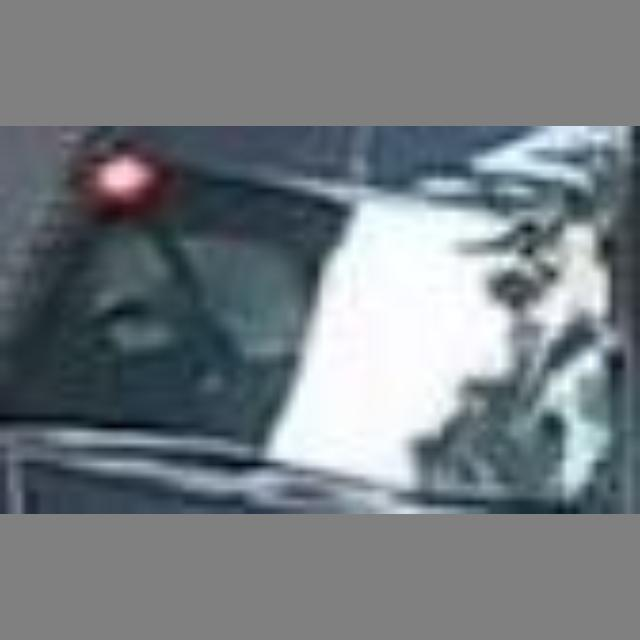pakai: (84, 202, 312, 400)
